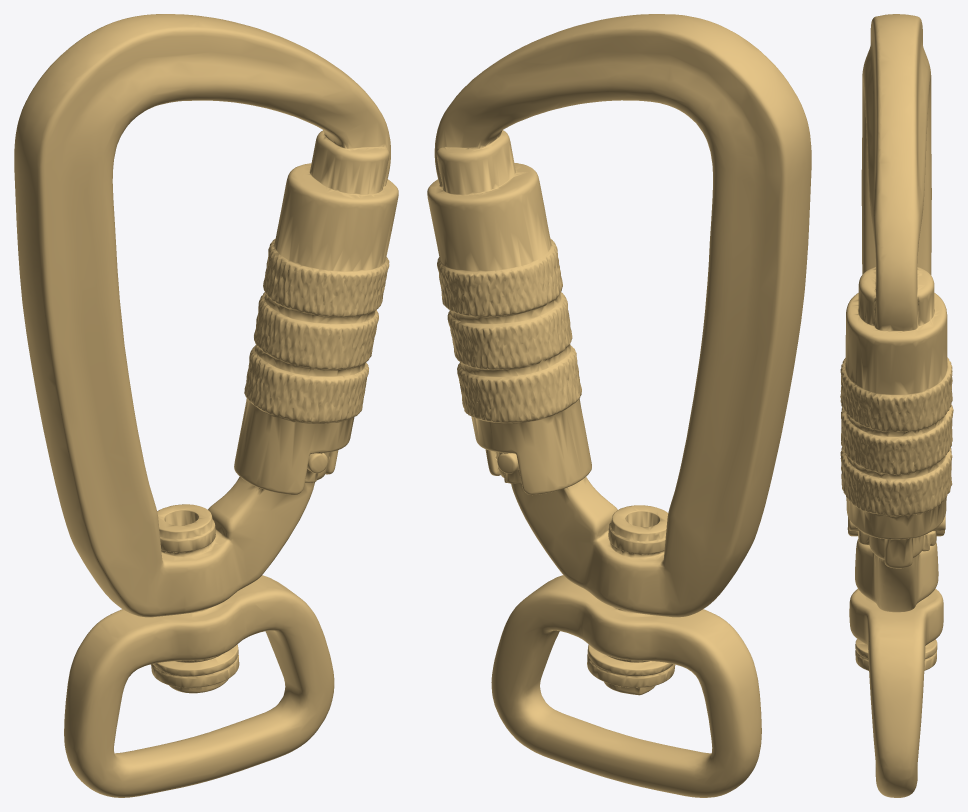
Rendered from kyn3d-carabiner-uso-rudo.glb.
3 views of the same model, side by side, from view 1: azimuth 30°, elevation 25°; view 2: azimuth 150°, elevation 25°; view 3: azimuth 270°, elevation 25° (orthographic). The views are drawn at different scales.
Visible parts, largest first — view 1: carabiner-uso-rudo; view 2: carabiner-uso-rudo; view 3: carabiner-uso-rudo.
Boxes of the visible parts, x1,y1,x2,y2 form: carabiner-uso-rudo: [14, 14, 398, 797]; carabiner-uso-rudo: [427, 14, 811, 797]; carabiner-uso-rudo: [840, 14, 953, 797].
Size of the model in its own units: 0.9447 by 1.9 by 0.2735.
